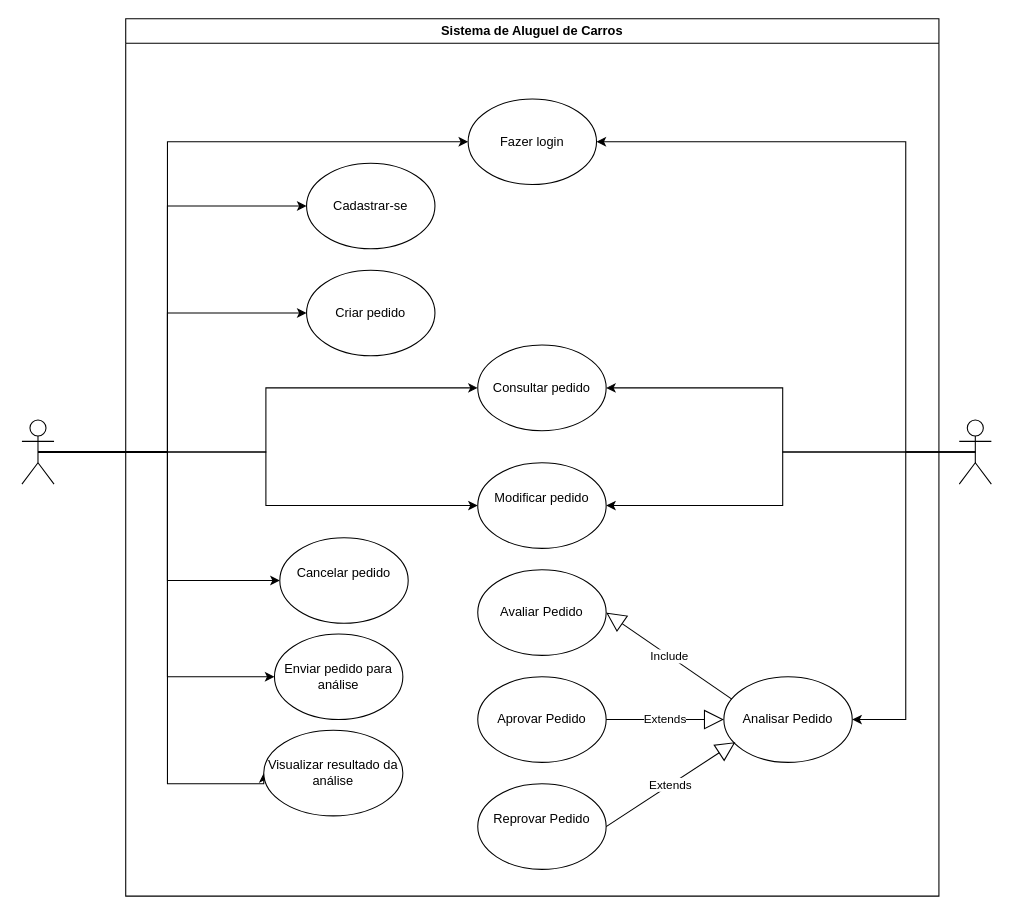
Some shapes in this 1014 by 915 pixel diagram are drawn without their labels. The centre of each missing label's shape, as x and y in pixels:
"Agente" goes at (974,451).
"Cliente" goes at (37,451).
